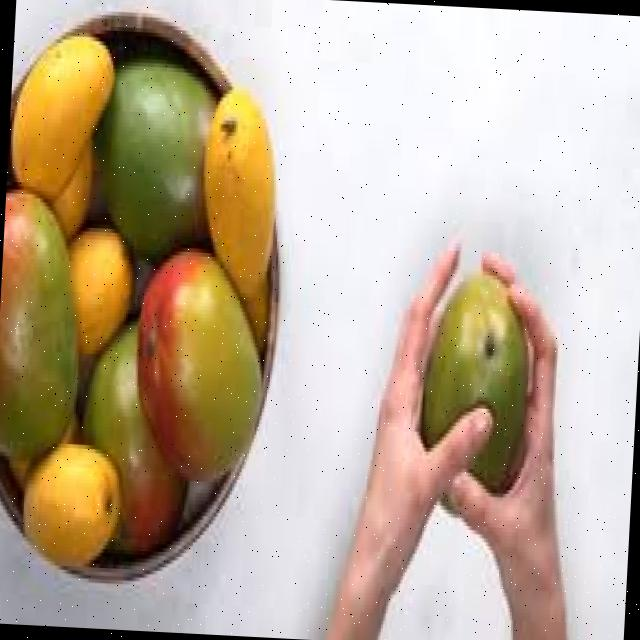mango: (136, 248, 262, 484)
